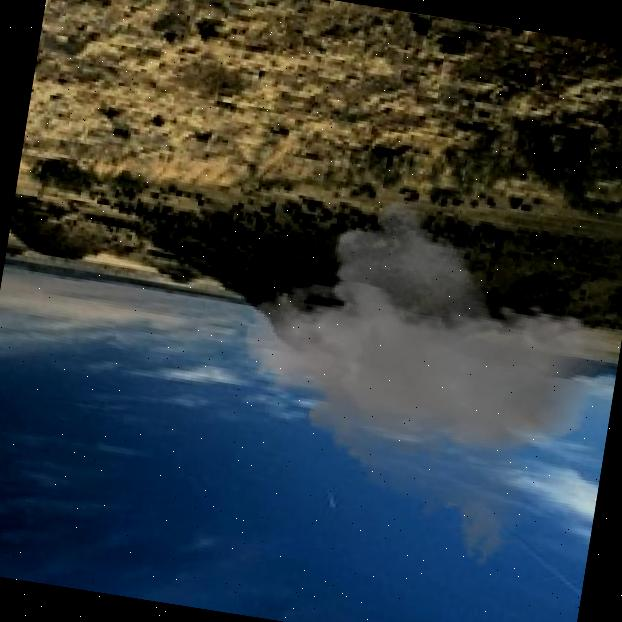smoke: (213, 167, 622, 583)
